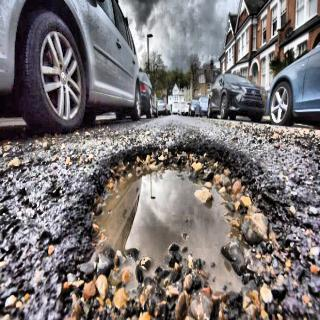pothole: (78, 133, 276, 320)
